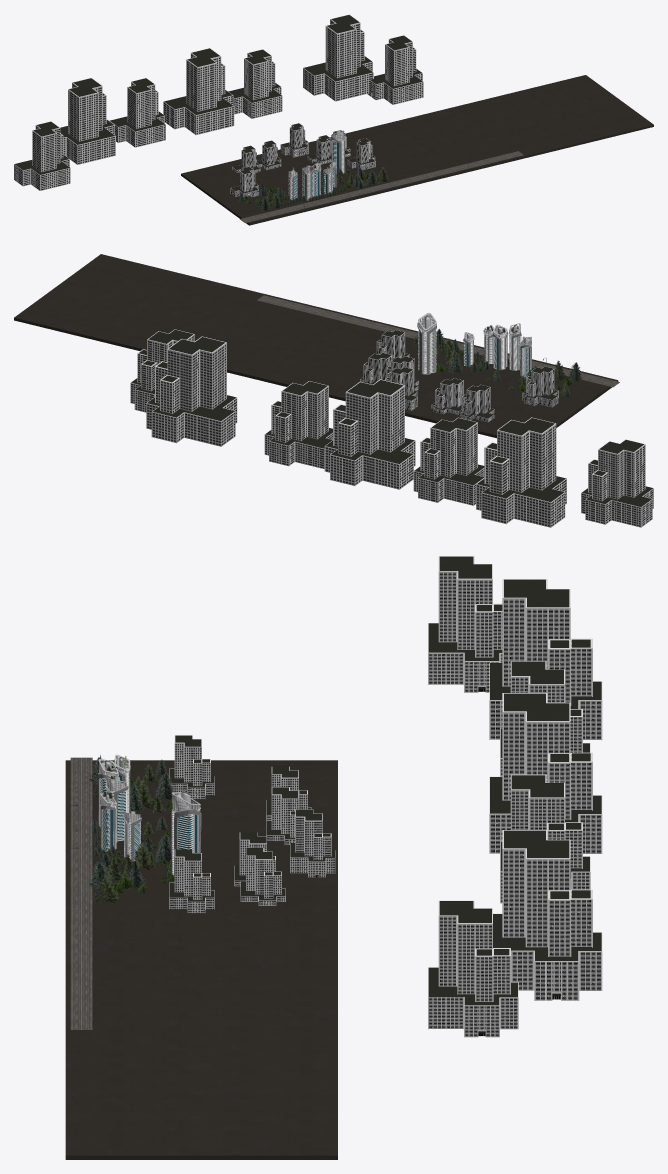
File: streetview2.glb
The picture shows the model from 3 angles, top to bottom: view 1: azimuth 30°, elevation 25°; view 2: azimuth 150°, elevation 25°; view 3: azimuth 270°, elevation 25°; orthographic projection. The views are drawn at different scales.
Parts seen in each view (by area): view 1: SM_MERGED_StaticMeshActor_2; view 2: SM_MERGED_StaticMeshActor_2; view 3: SM_MERGED_StaticMeshActor_2.
Part boxes in pixels (x1,y1,x2,y2): SM_MERGED_StaticMeshActor_2: [14, 14, 653, 225]; SM_MERGED_StaticMeshActor_2: [14, 254, 653, 527]; SM_MERGED_StaticMeshActor_2: [65, 556, 602, 1159].
Bounding box in the file's own units: 69.39 × 8.45 × 30.36.
Materials: 23 (21 with a texture image).
